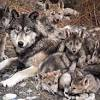Lobo: (7, 8, 45, 61), (64, 71, 96, 97), (31, 69, 63, 95), (61, 28, 86, 54), (40, 1, 65, 24)
